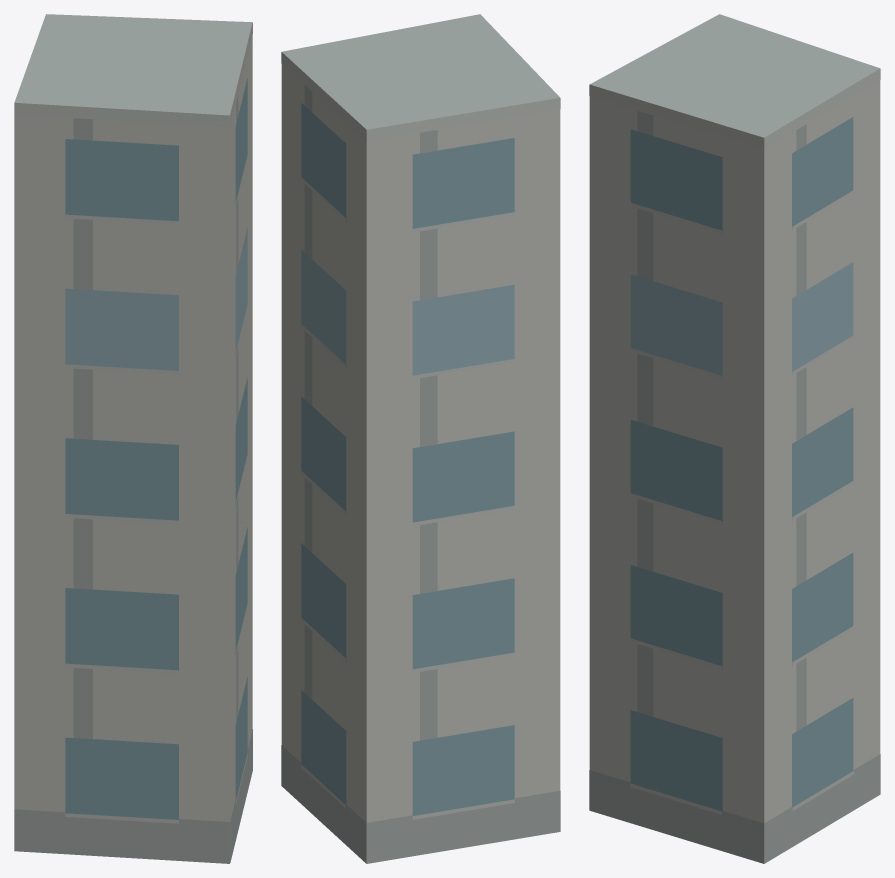
The model's file is survey-upis-32945775.glb.
The picture shows the model from 3 angles, left to right: view 1: azimuth 30°, elevation 25°; view 2: azimuth 150°, elevation 25°; view 3: azimuth 270°, elevation 25°; orthographic projection. The views are drawn at different scales.
Parts seen in each view (by area): view 1: survey-upis-32945775.tmp; view 2: survey-upis-32945775.tmp; view 3: survey-upis-32945775.tmp.
Part boxes in pixels (bbox=[...]): survey-upis-32945775.tmp: bbox=[14, 14, 252, 863]; survey-upis-32945775.tmp: bbox=[281, 14, 560, 863]; survey-upis-32945775.tmp: bbox=[589, 14, 880, 863].
Size of the model in its own units: 5.58 by 15.25 by 5.55.
